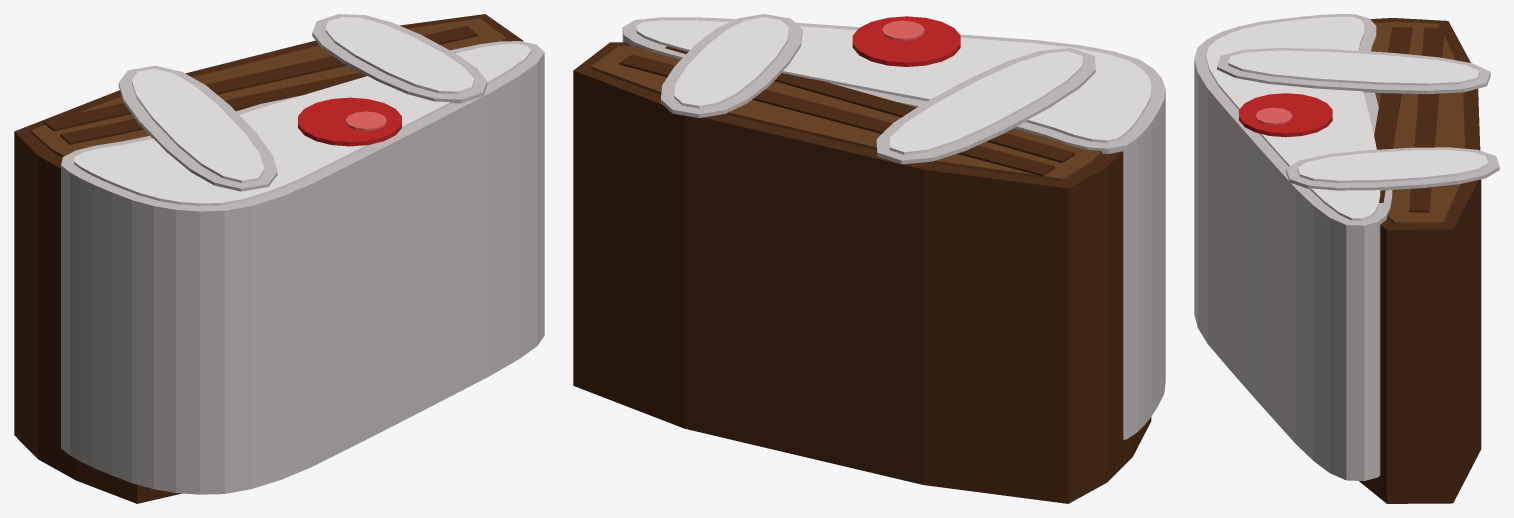
The model's file is bag_fatia_bolo_morango.fbx.
3 renders of one model, left to right at view 1: azimuth 30°, elevation 25°; view 2: azimuth 150°, elevation 25°; view 3: azimuth 270°, elevation 25°, orthographic. The views are drawn at different scales.
Parts seen in each view (by area): view 1: bag_fatia_bolo_morango_mochila; view 2: bag_fatia_bolo_morango_mochila; view 3: bag_fatia_bolo_morango_mochila.
Part boxes in pixels (x1,y1,x2,y2): bag_fatia_bolo_morango_mochila: [14, 14, 544, 503]; bag_fatia_bolo_morango_mochila: [573, 14, 1165, 503]; bag_fatia_bolo_morango_mochila: [1194, 14, 1499, 503].
Size of the model in its own units: 2.96 by 1.9 by 1.8.
Materials: 1 (1 with a texture image).
